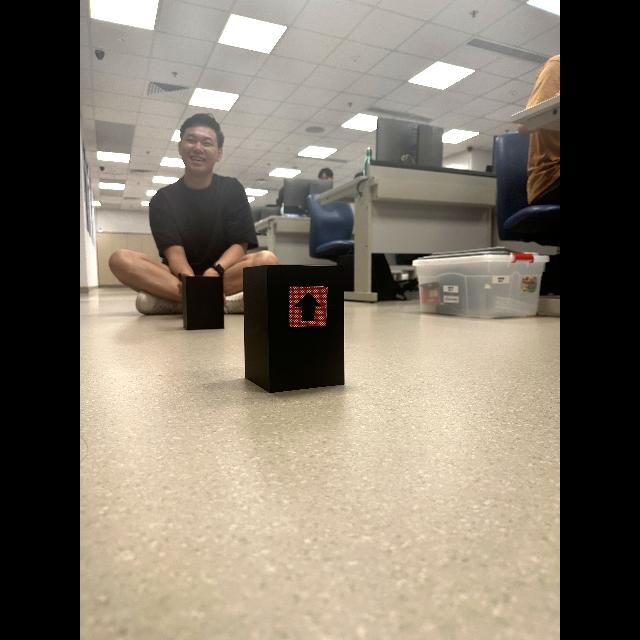UP: (294, 292, 322, 321)
